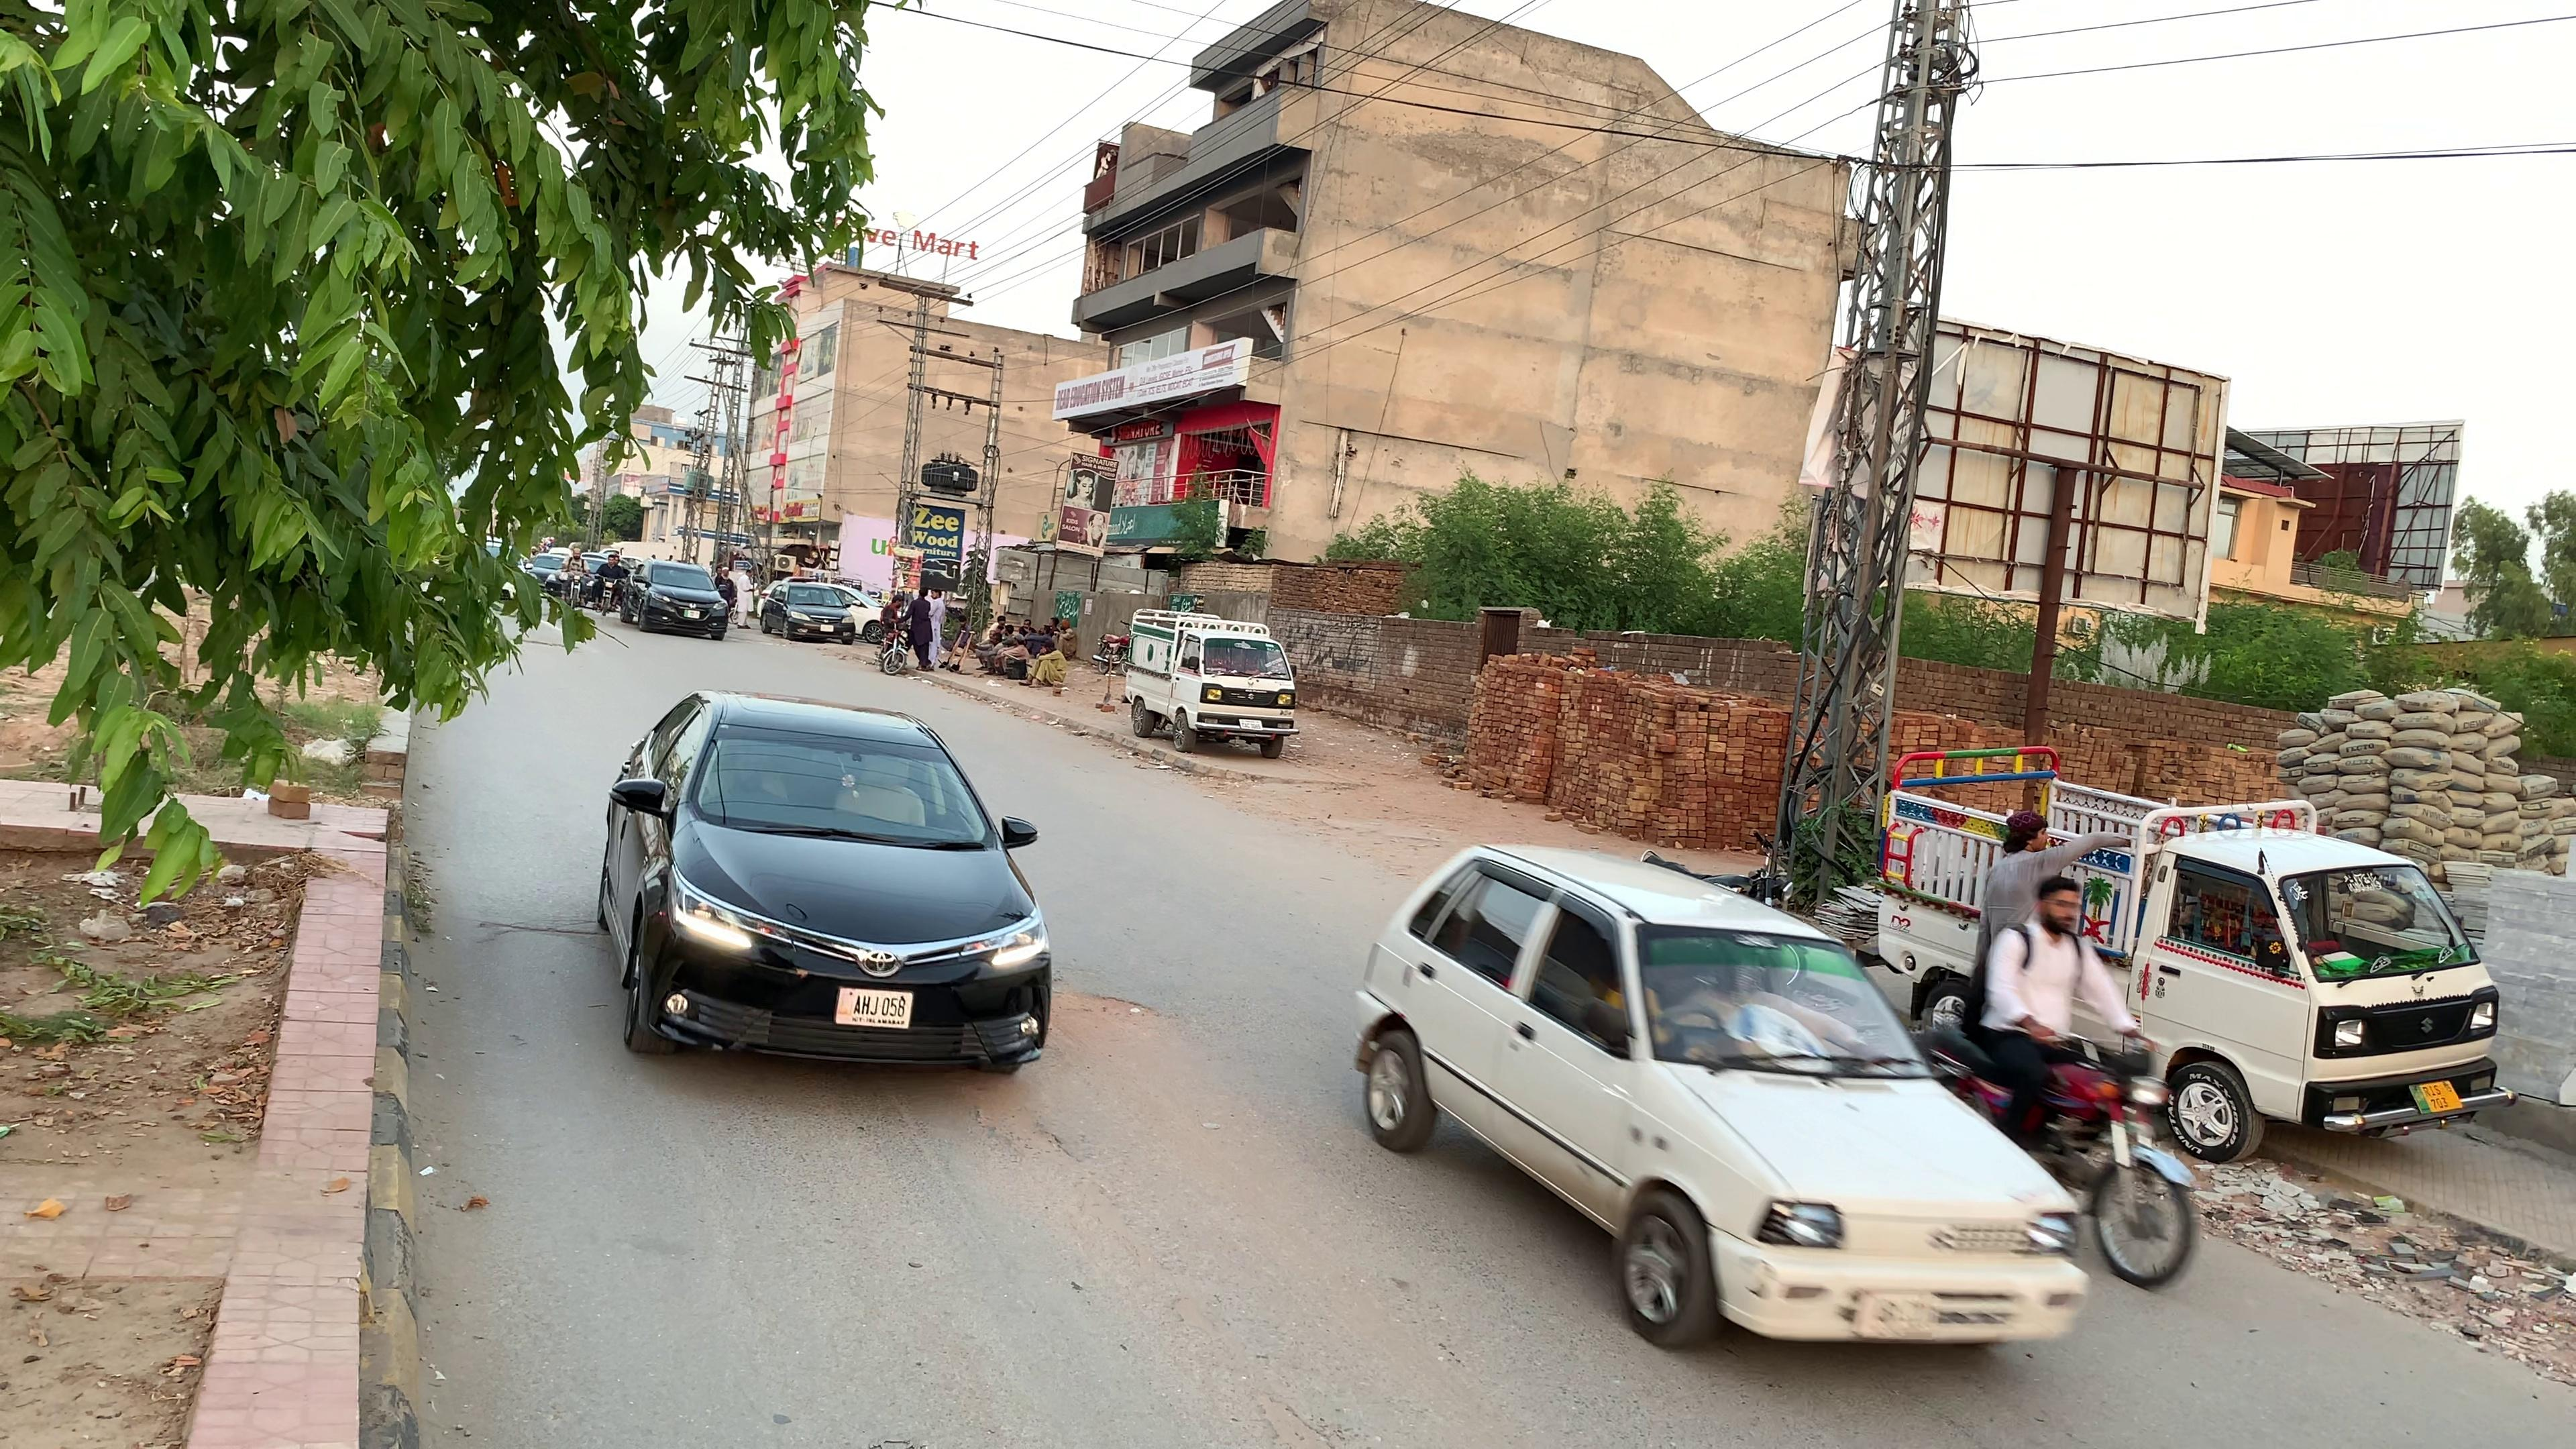windshield: (1635, 920, 1932, 1077), (688, 713, 1000, 844)
